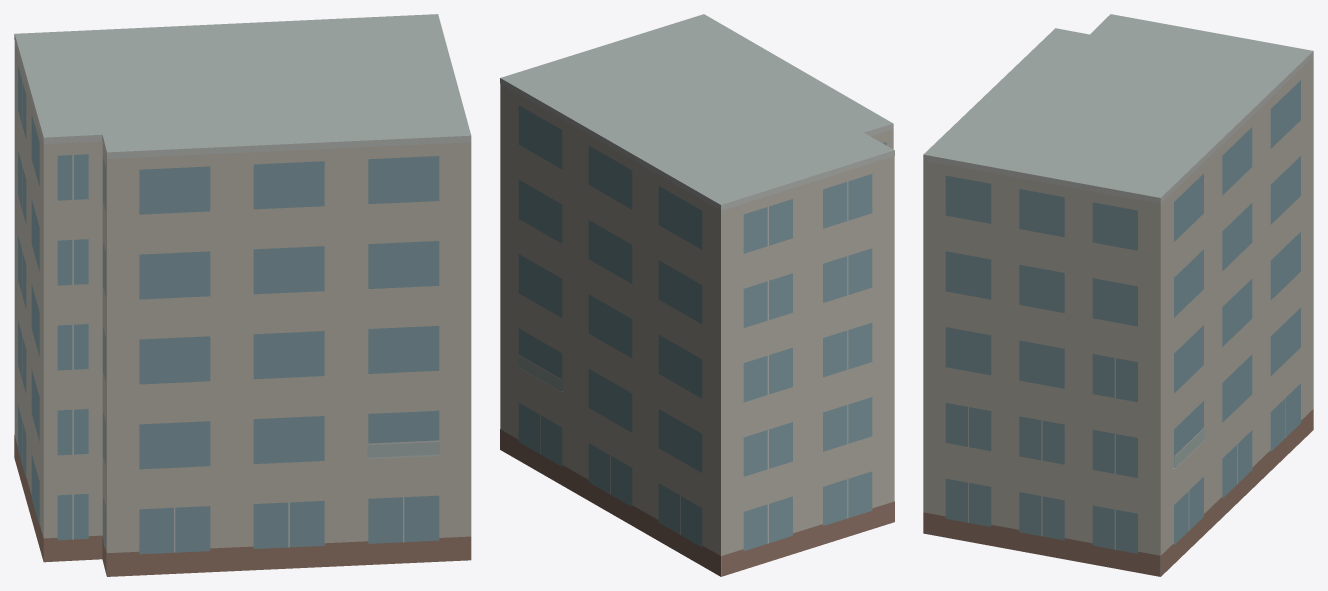
The model's file is survey-upis-32523710.glb.
3 views of the same model, side by side, from view 1: azimuth 30°, elevation 25°; view 2: azimuth 150°, elevation 25°; view 3: azimuth 270°, elevation 25° (orthographic). The views are drawn at different scales.
Visible parts, largest first — view 1: survey-upis-32523710.tmp; view 2: survey-upis-32523710.tmp; view 3: survey-upis-32523710.tmp.
Part boxes in pixels (x1=…): survey-upis-32523710.tmp: x1=14, y1=14, x2=471, y2=576; survey-upis-32523710.tmp: x1=500, y1=14, x2=894, y2=576; survey-upis-32523710.tmp: x1=923, y1=14, x2=1313, y2=576.
Bounding box in the file's own units: 16.36 × 15.7 × 14.67.
